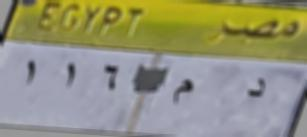1: (58, 56, 80, 93), (20, 55, 40, 88)
6: (98, 59, 123, 93)
daal: (242, 71, 270, 106)
meem: (171, 71, 195, 107)
